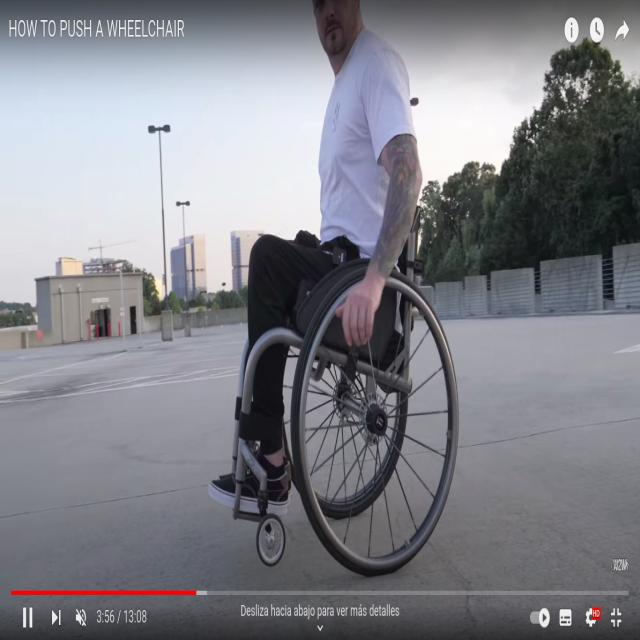wheelchairs: (234, 258, 459, 580)
